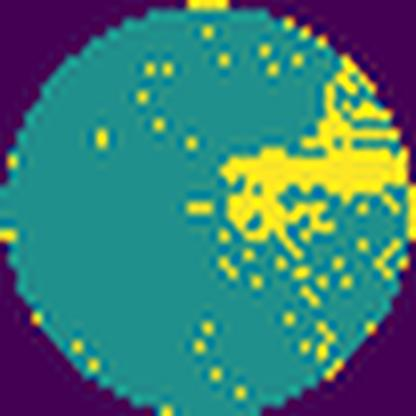Loc: (223, 68, 406, 260)
